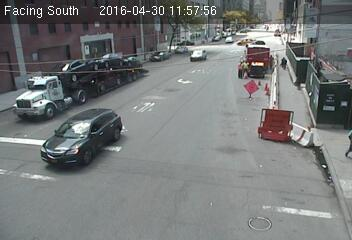neg: (227, 164, 256, 201), (311, 75, 338, 111), (166, 83, 192, 117), (220, 110, 243, 142), (79, 104, 102, 135), (32, 78, 55, 109), (179, 39, 202, 69), (264, 113, 286, 142), (143, 149, 164, 178), (100, 46, 120, 73), (63, 166, 83, 193), (254, 49, 273, 76)
pos: (279, 53, 292, 71)
